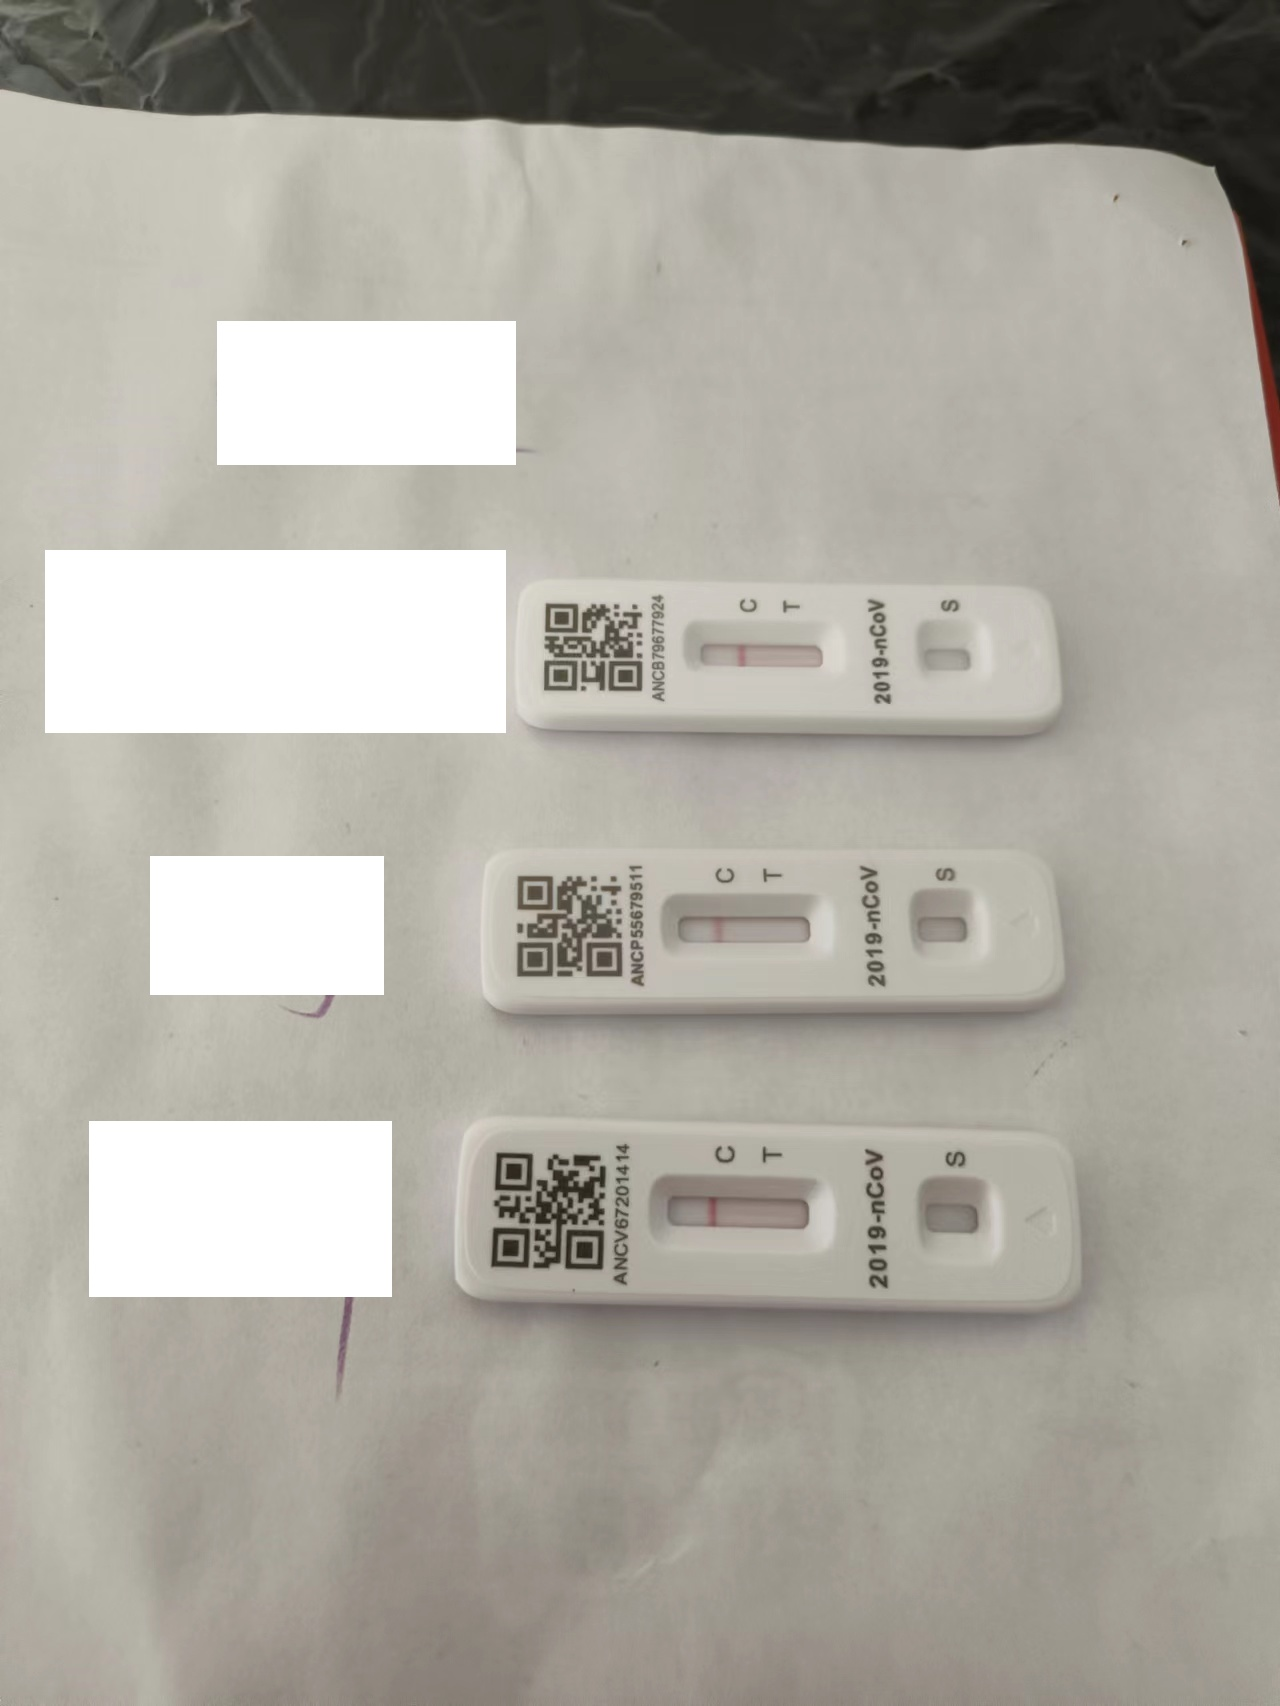negative: (647, 1175, 831, 1252), (664, 893, 831, 965)
